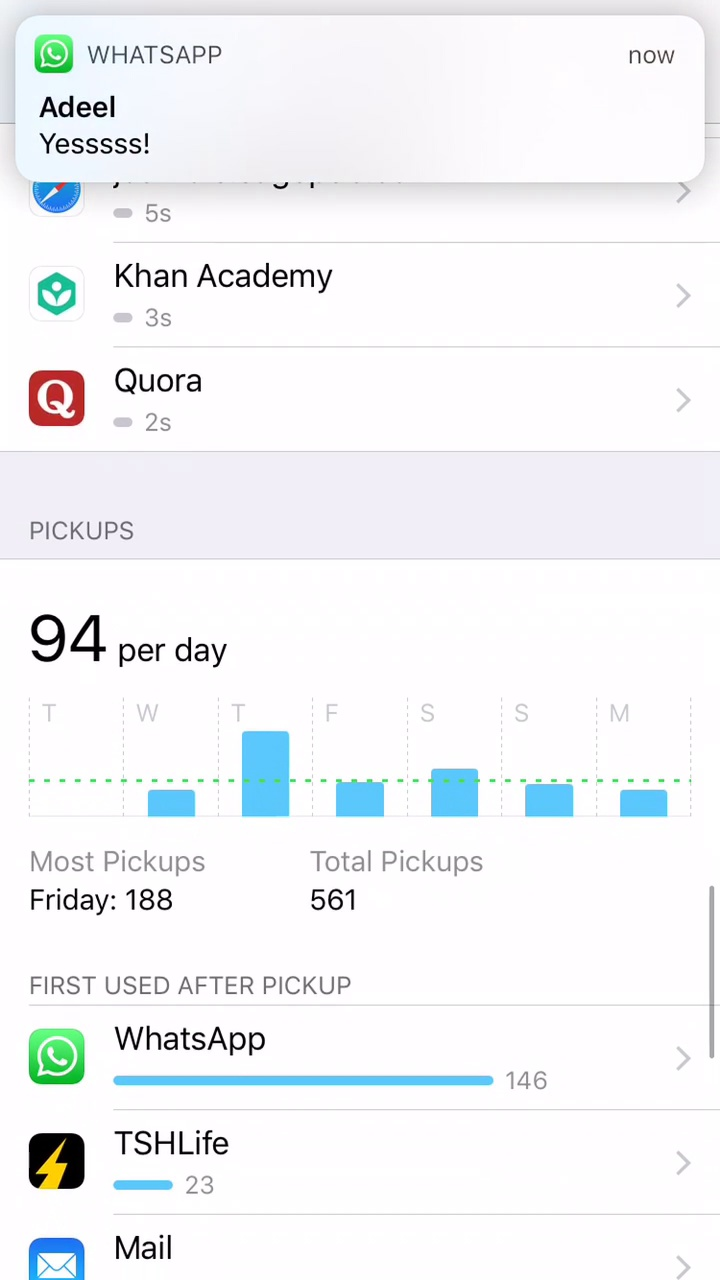pick_app: (17, 1013, 595, 1107), (17, 1120, 264, 1214)
pick_over: (14, 838, 511, 936)
